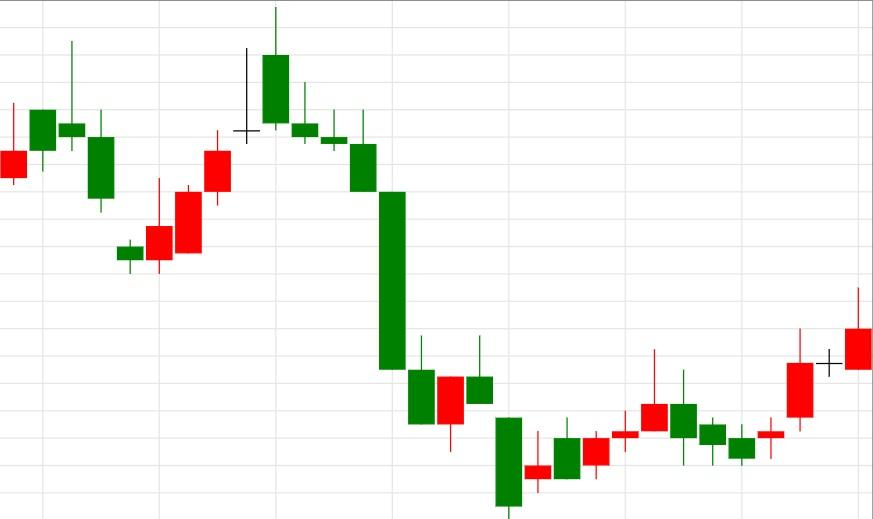bullish_engulfing_rise: (28, 40, 174, 275)
shooting_star_fall: (495, 348, 669, 518)
